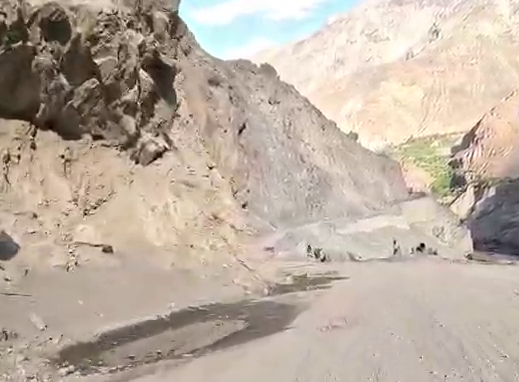unexpected: (333, 170, 467, 239)
